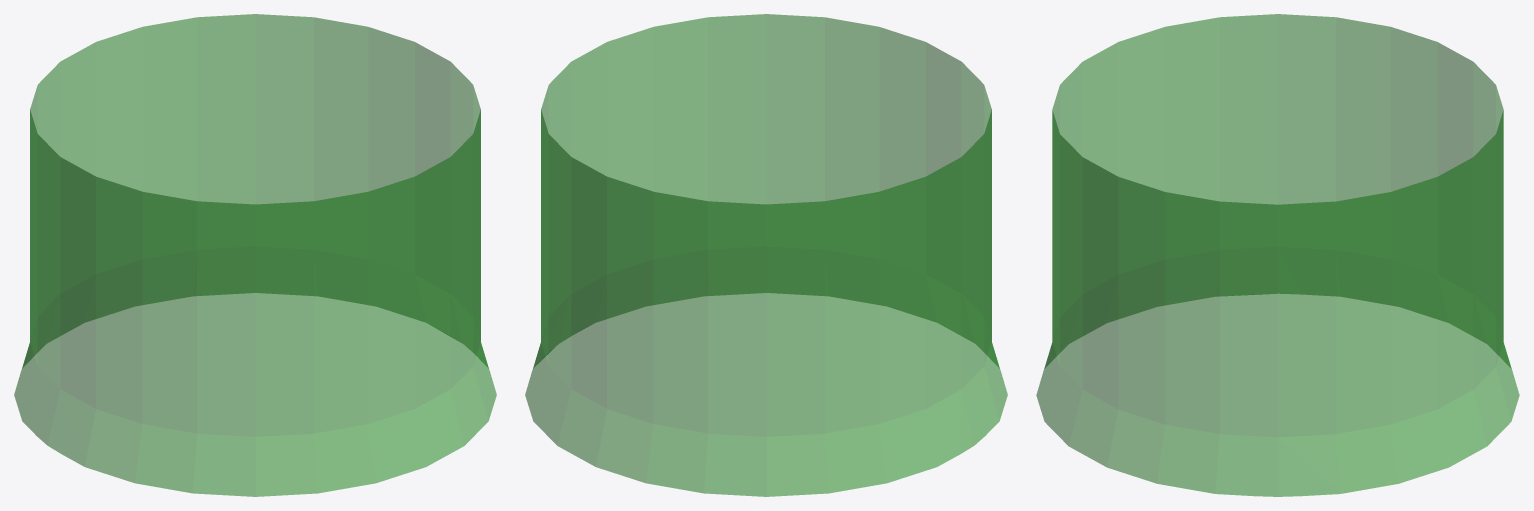
File: air_wall2.obj
The picture shows the model from 3 angles, left to right: view 1: azimuth 30°, elevation 25°; view 2: azimuth 150°, elevation 25°; view 3: azimuth 270°, elevation 25°; orthographic projection.
Bounding box in the file's own units: 38.59 × 25.33 × 38.79.
